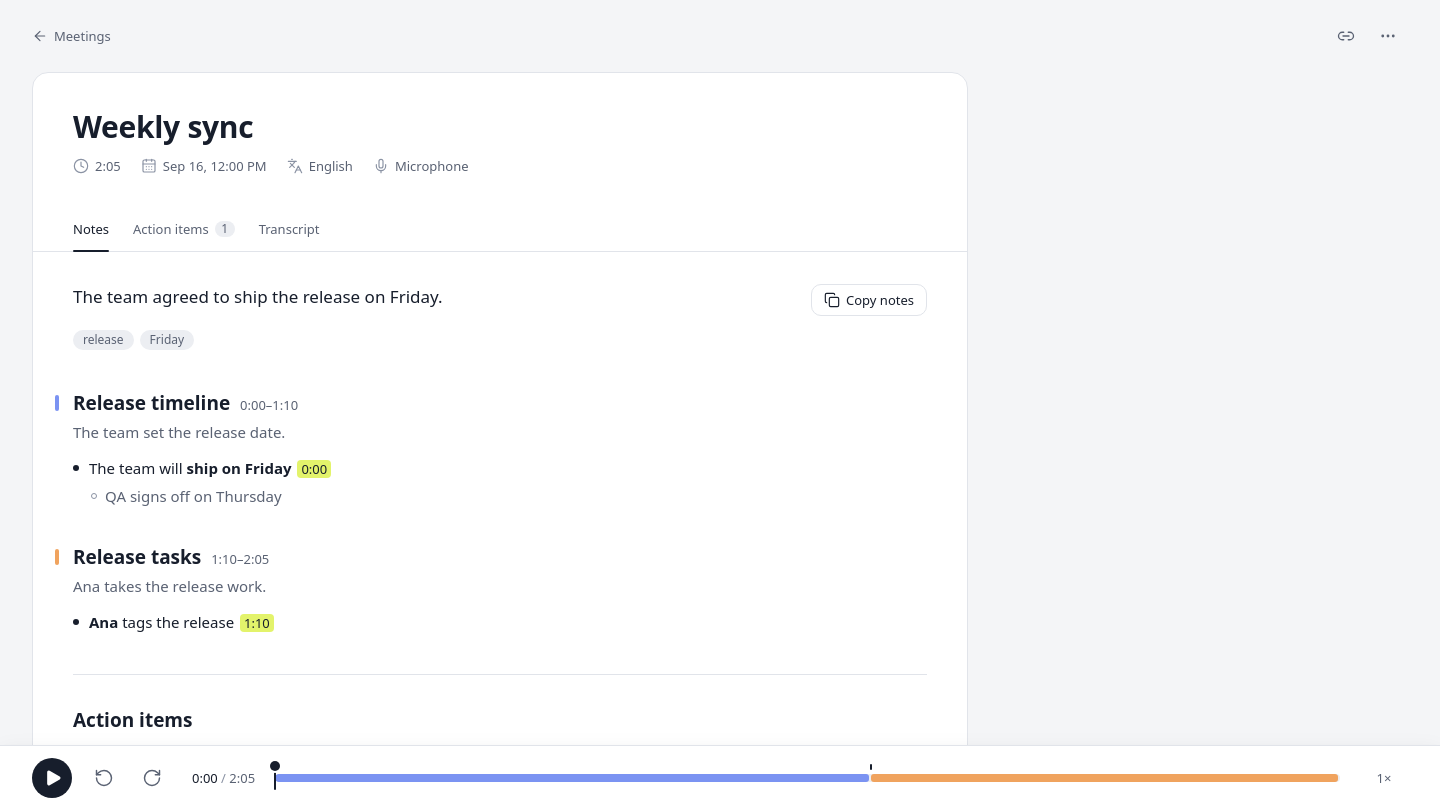
Test case: MeetingPage › delete › deletes from the menu after a confirmation
The image size is (1440, 810).
Click the button named "More actions" at (1388, 36), box [1368,16,1408,56]
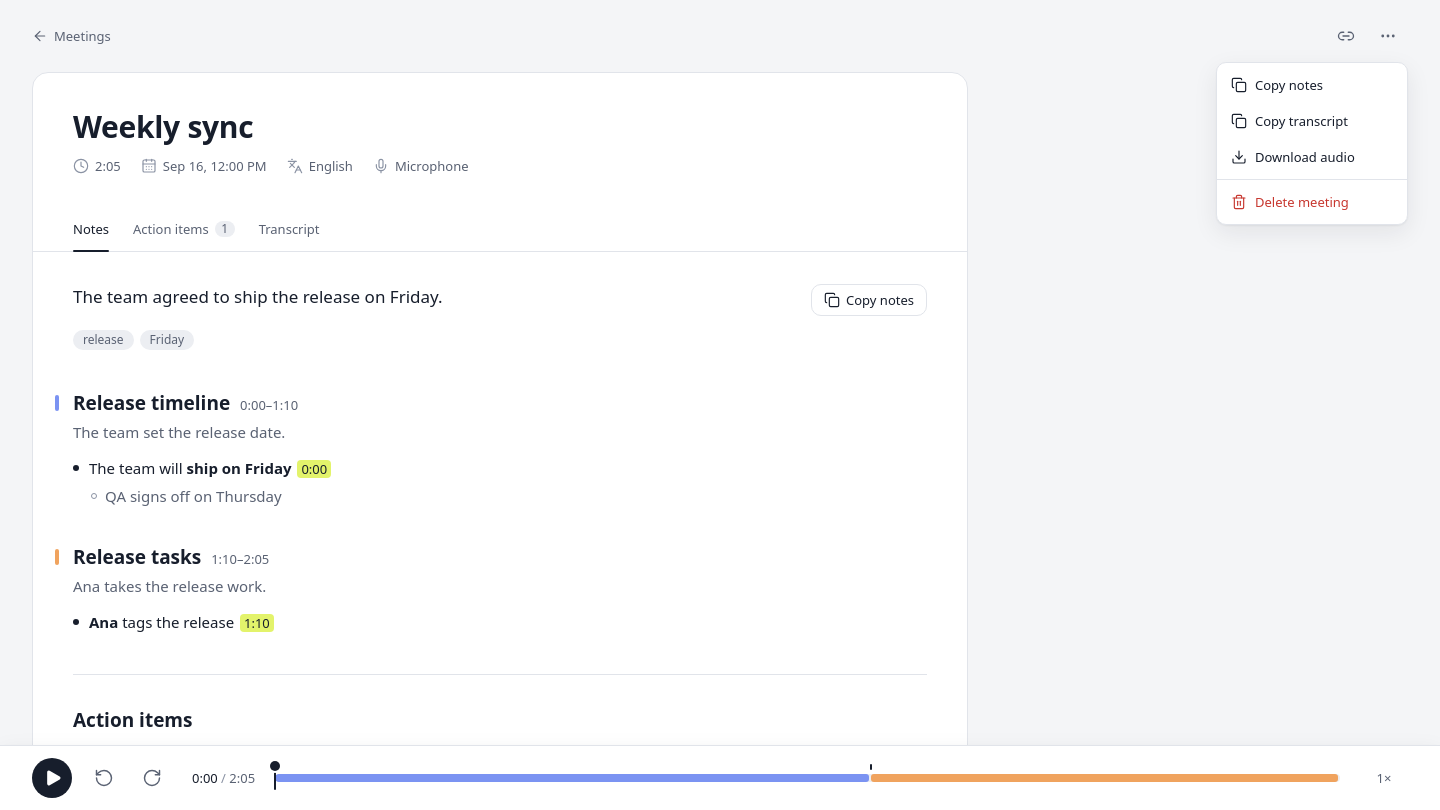
Click the menu item "Delete meeting" at (1290, 202), box [1231,193,1349,211]
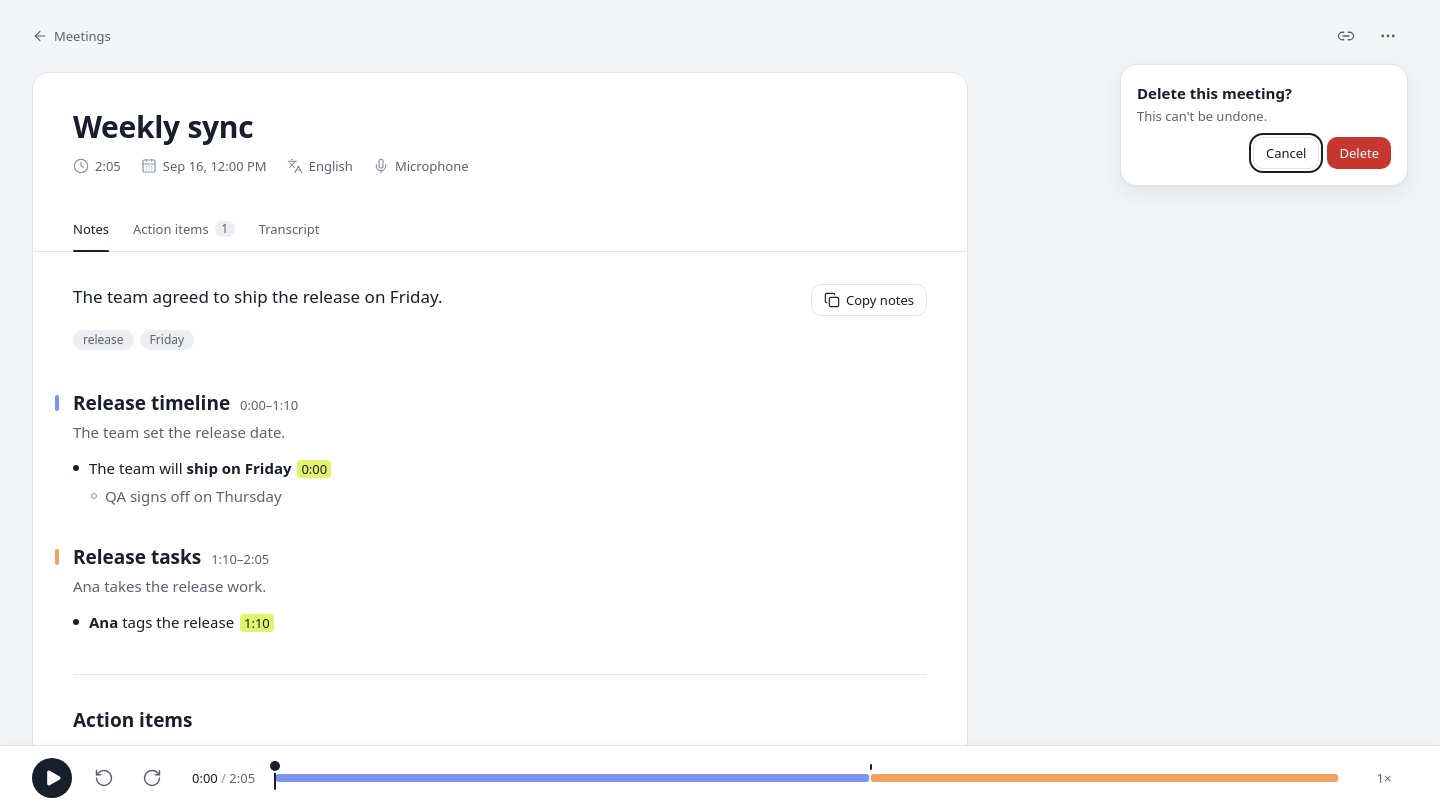
Click the button "Cancel" at (1286, 153), box [1253,137,1320,169]
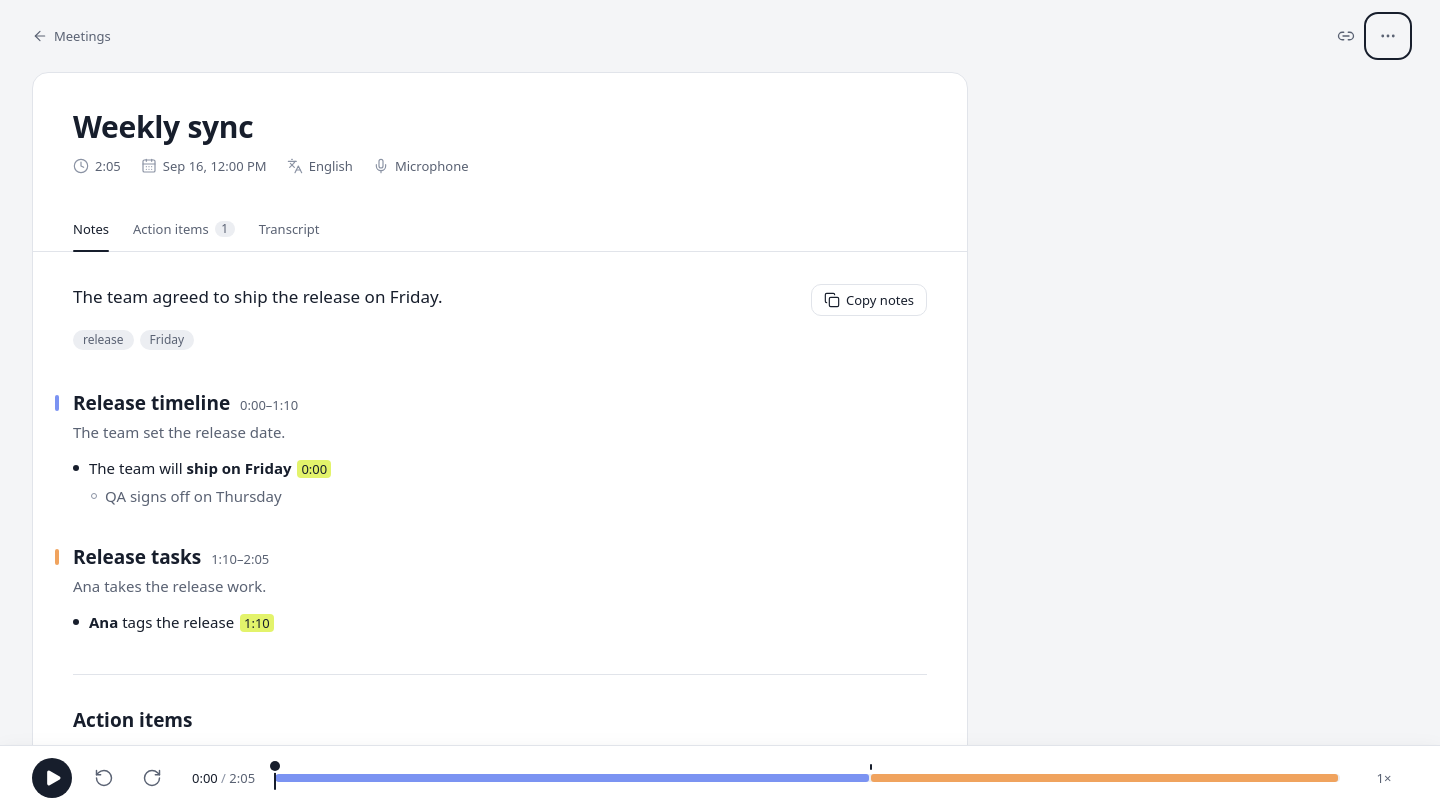
Check: the dialog is gone
Click the button named "More actions" at (1388, 36), box [1368,16,1408,56]
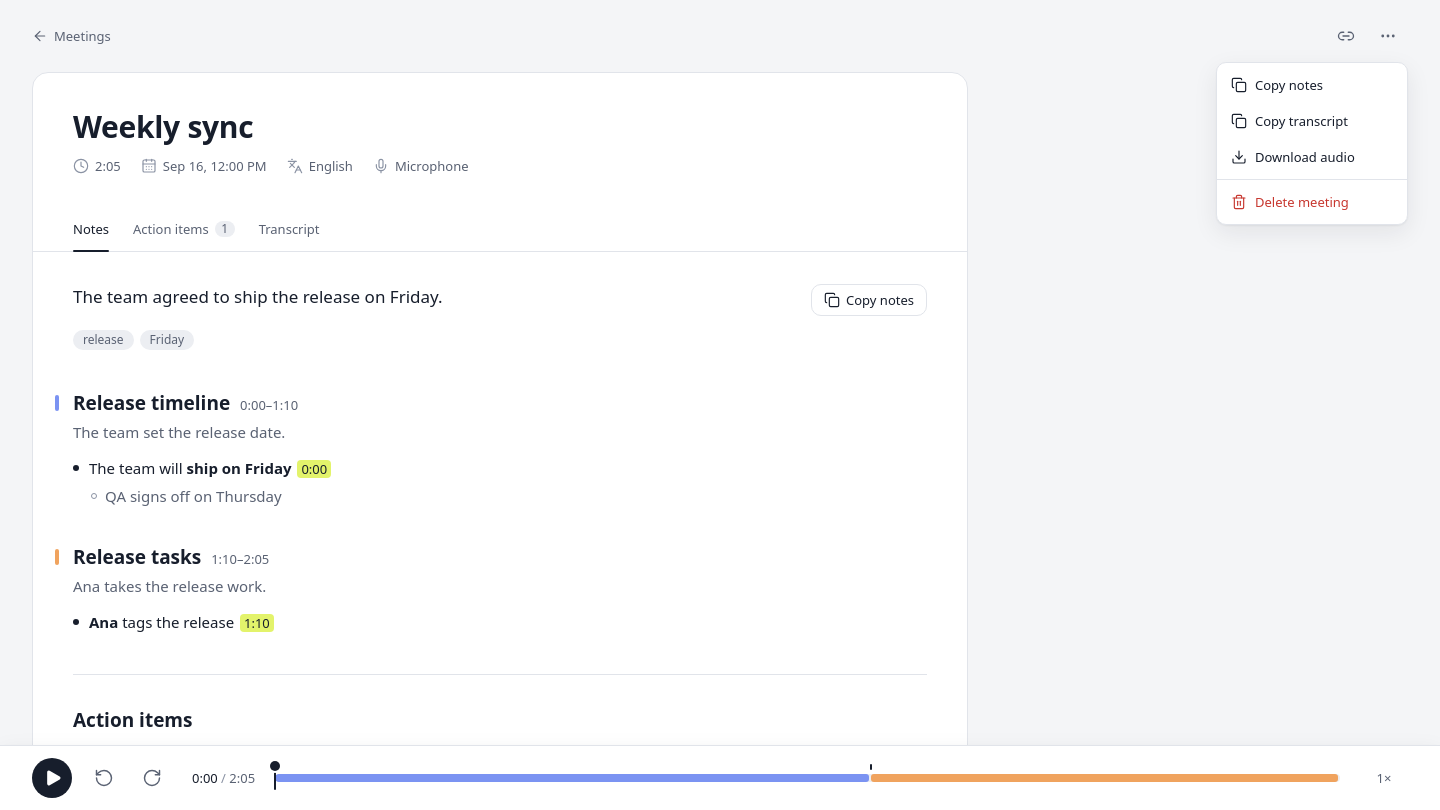
Click the menu item "Delete meeting" at (1290, 202), box [1231,193,1349,211]
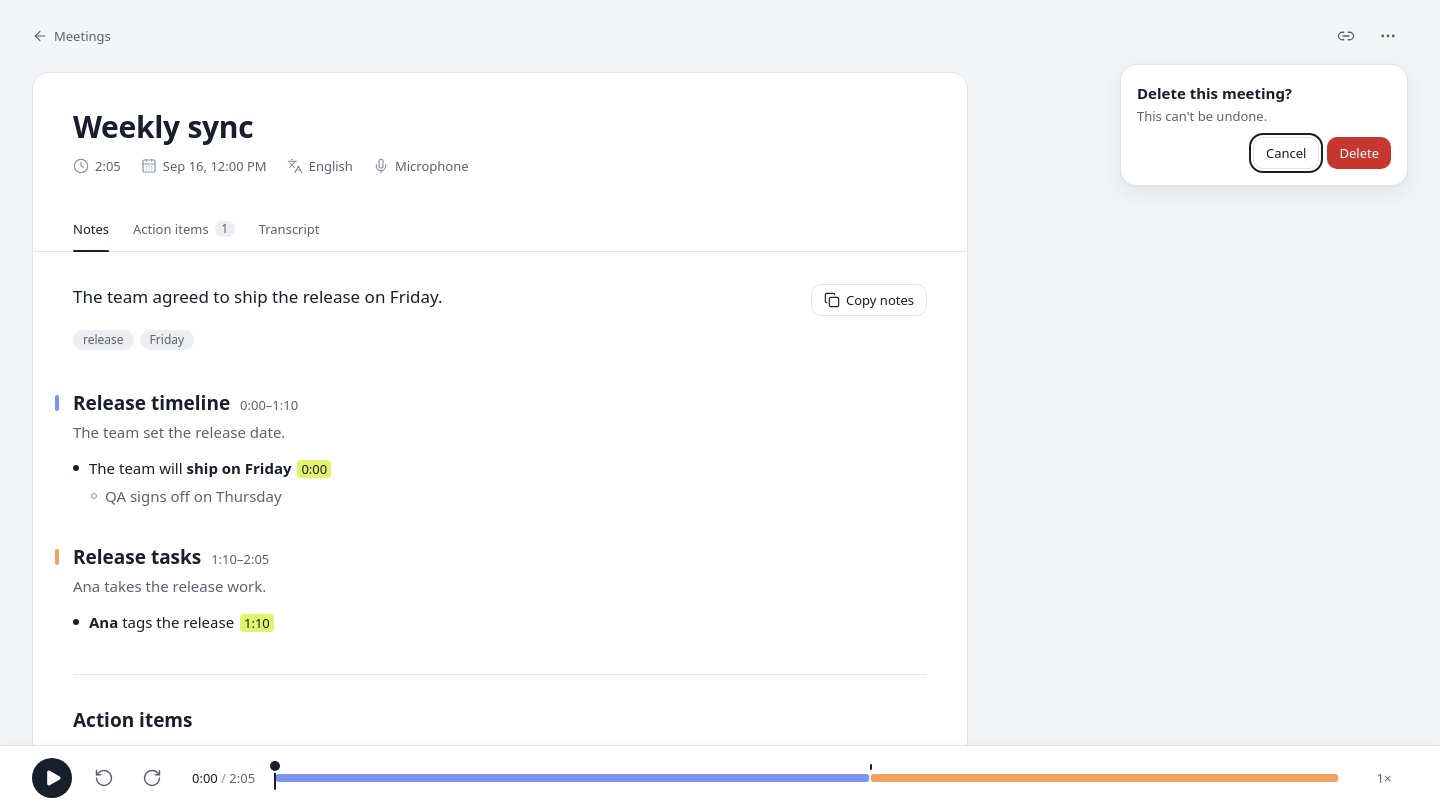
Click the button "Delete" at (1359, 153), box [1328,137,1391,169]
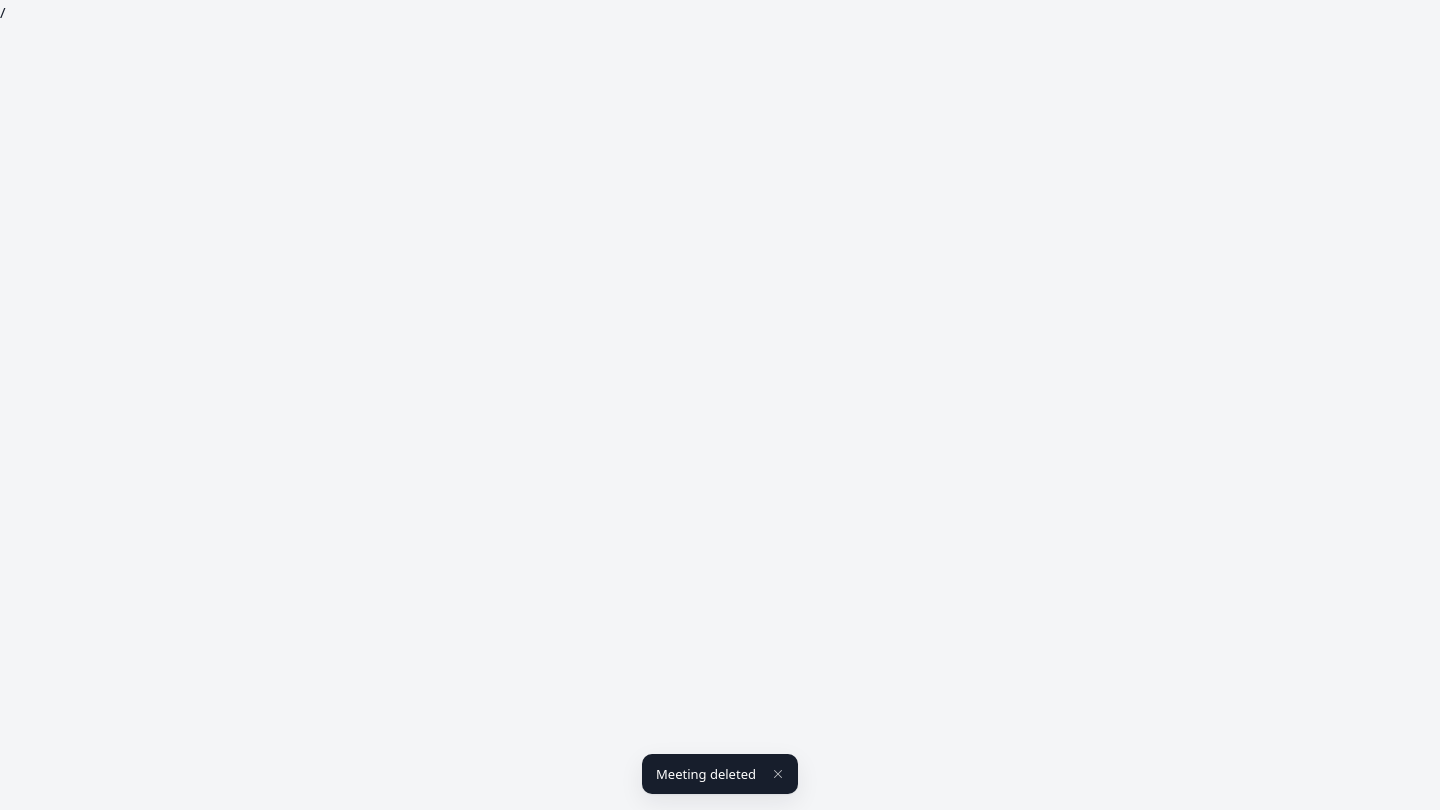
Check: the text with test id "location" reads "/", box [0,2,6,22]
Check: the text "Meeting deleted" is shown, box [656,761,756,787]
